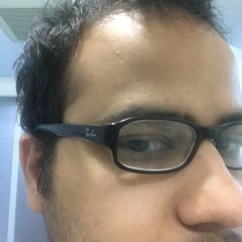glasses: (26, 113, 242, 165)
